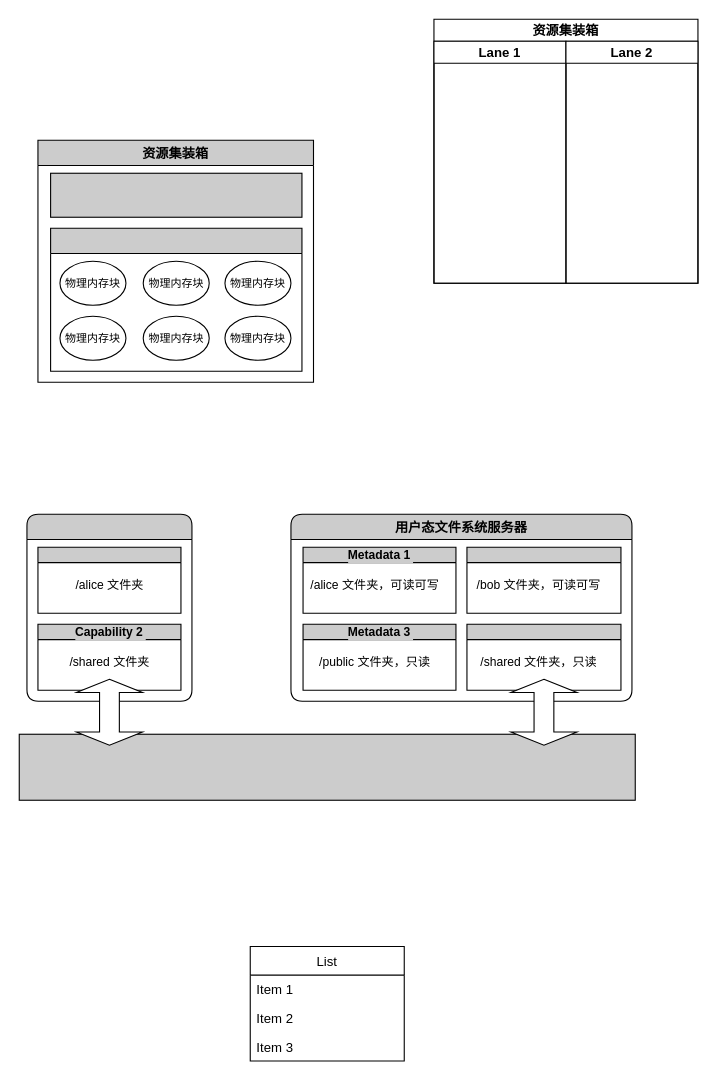
This 717x1084 diagram has some shape labels left out. Each missing label, with the box of its shape:
Capability 1: (37, 546, 181, 613)
CPU 调度上下文: (50, 172, 302, 217)
IPC 信道: (18, 733, 635, 800)
Metadata 2: (466, 546, 621, 613)
Metadata 4: (466, 623, 621, 690)
用户进程: (26, 513, 192, 701)
进程私有内存池: (50, 227, 302, 371)
